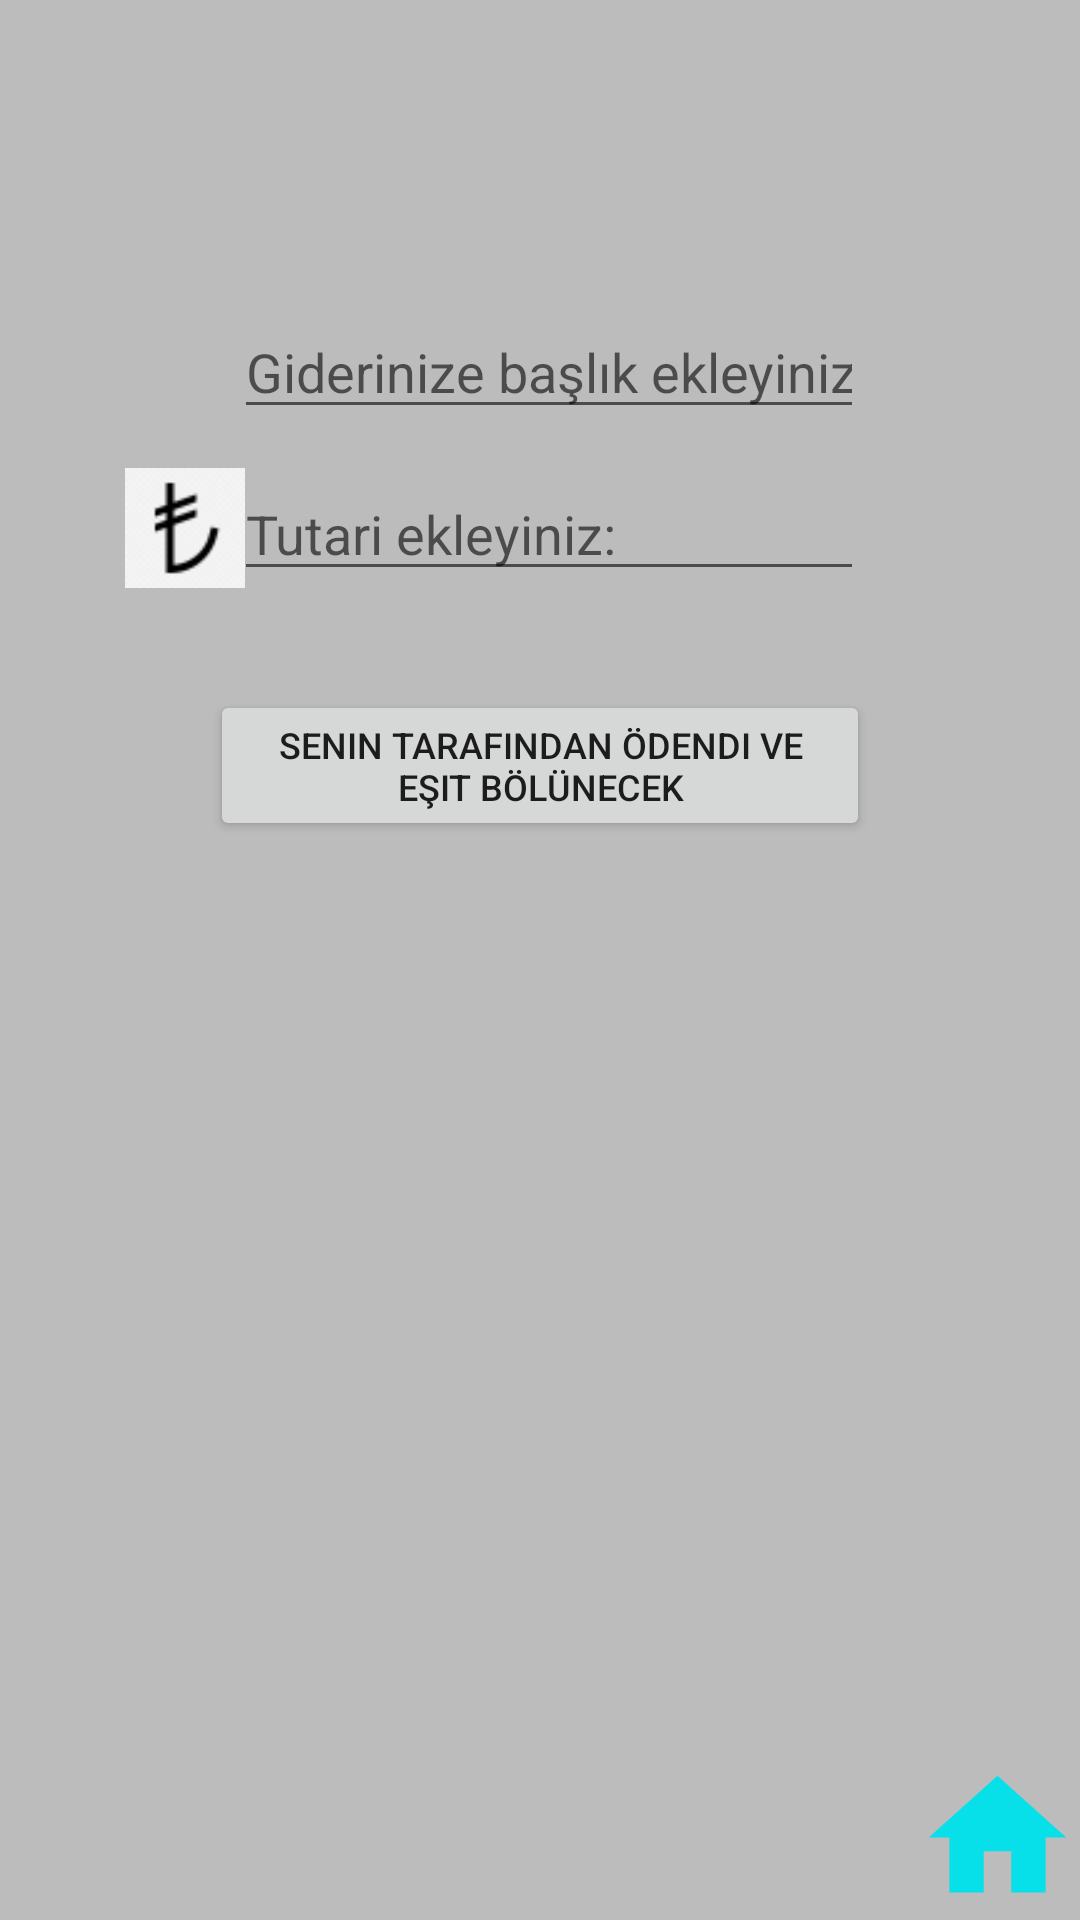

Icon bounding boxes for this 1080px x 1920px phone screenshot, format (x1=x1, y1=y1, x2=x2, y2=y2):
home: (x1=929, y1=1776, x2=1066, y2=1893)
turklirasisembol: (x1=125, y1=468, x2=245, y2=588)
